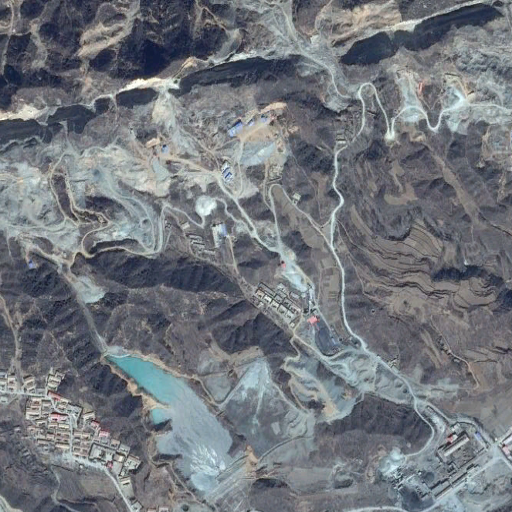tp: (101, 351, 244, 499)
